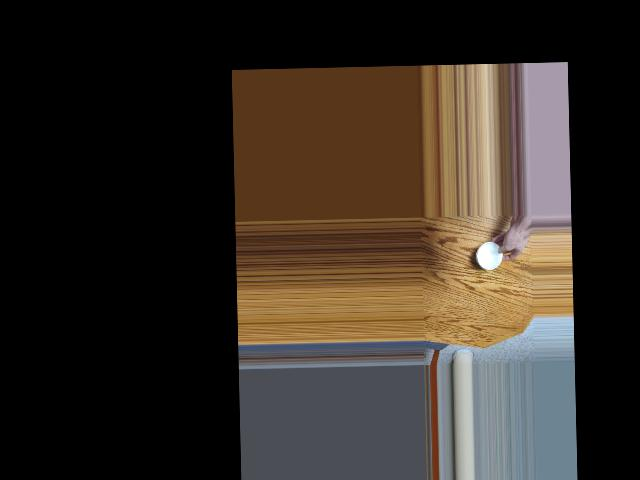cotage: (476, 239, 508, 271)
